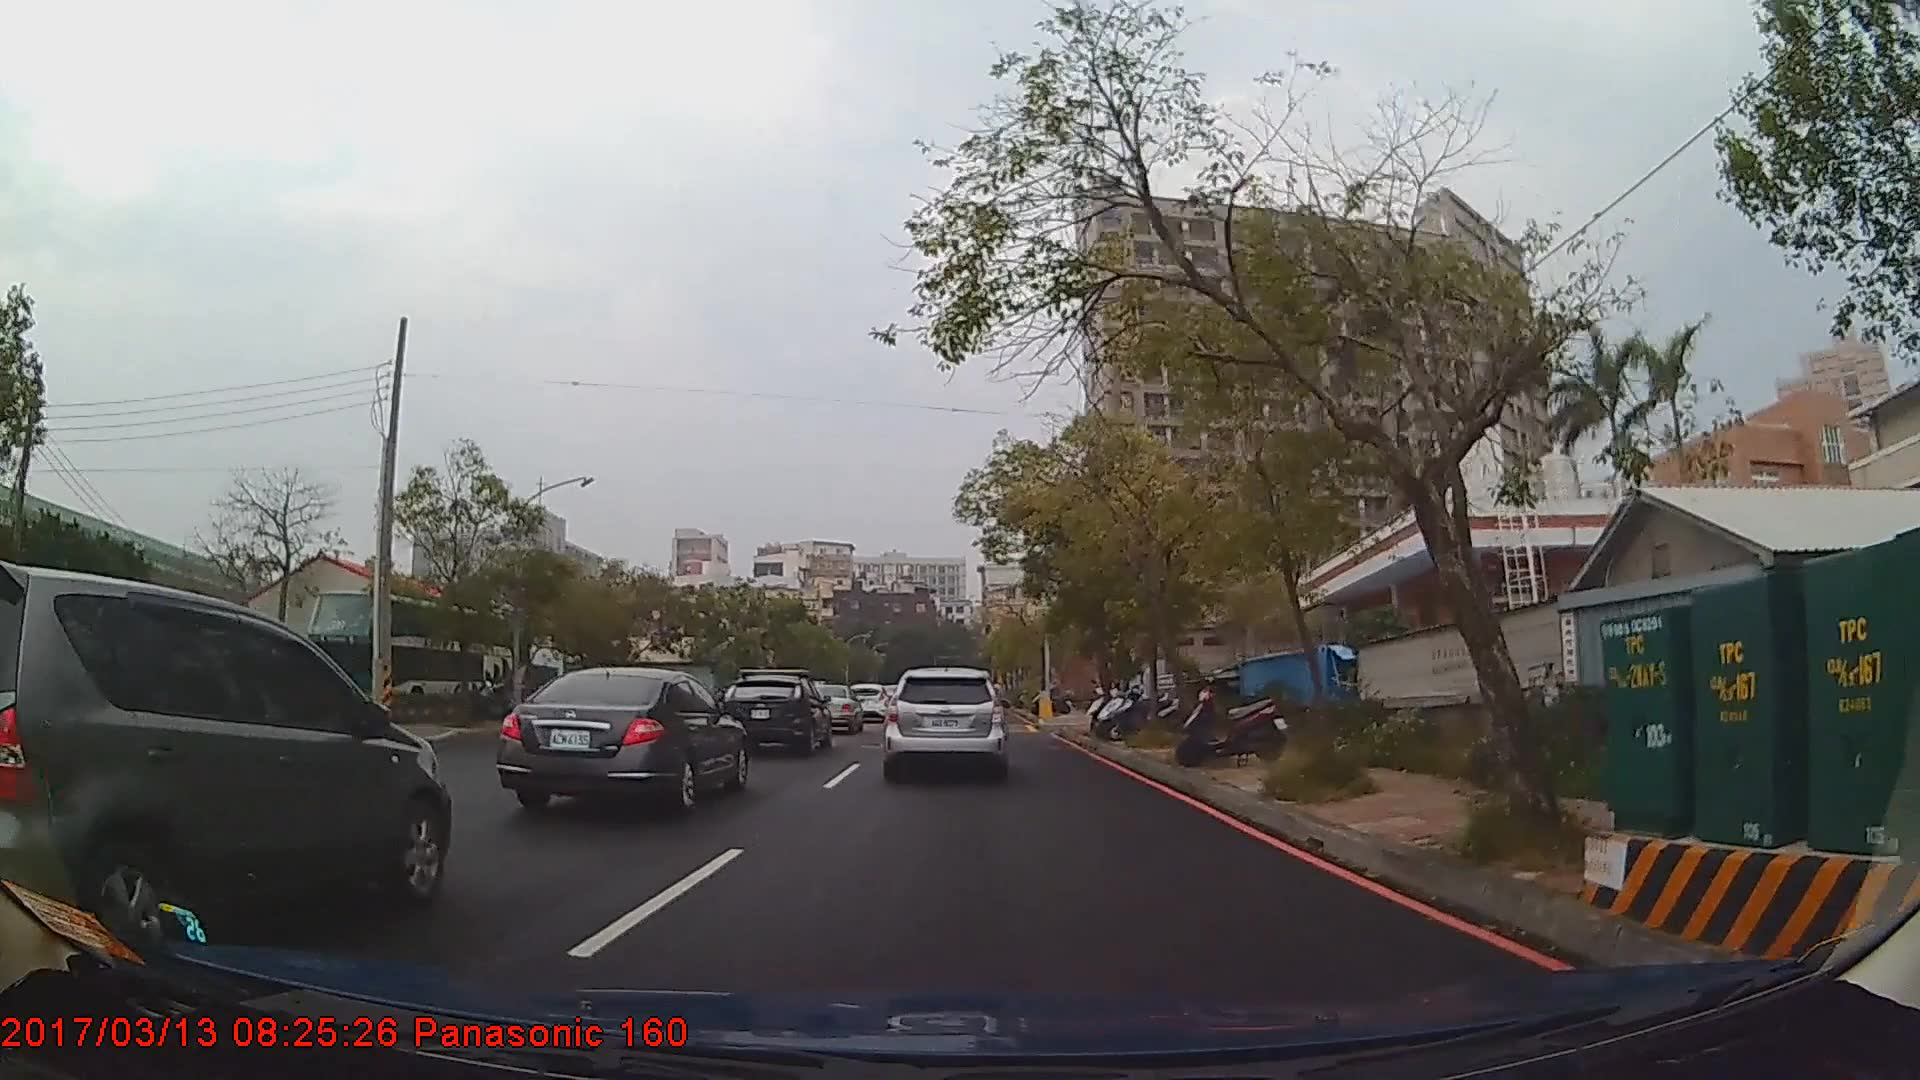vehicle: (0, 564, 448, 945), (495, 665, 750, 816), (306, 589, 513, 715), (882, 666, 1007, 781), (721, 669, 829, 756), (807, 684, 864, 736), (845, 682, 891, 723)
